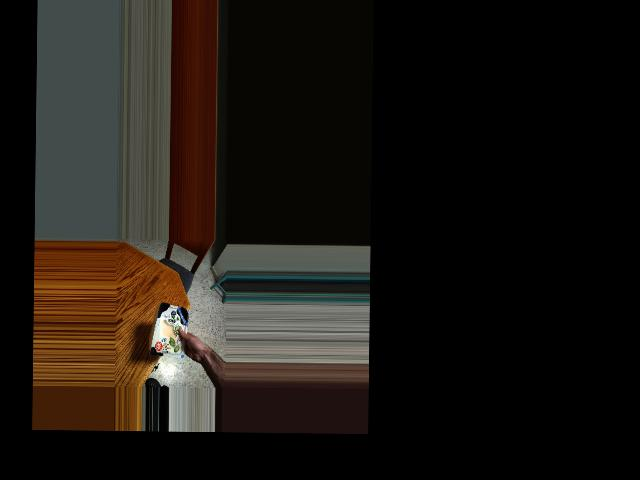cheese: (149, 303, 190, 357)
